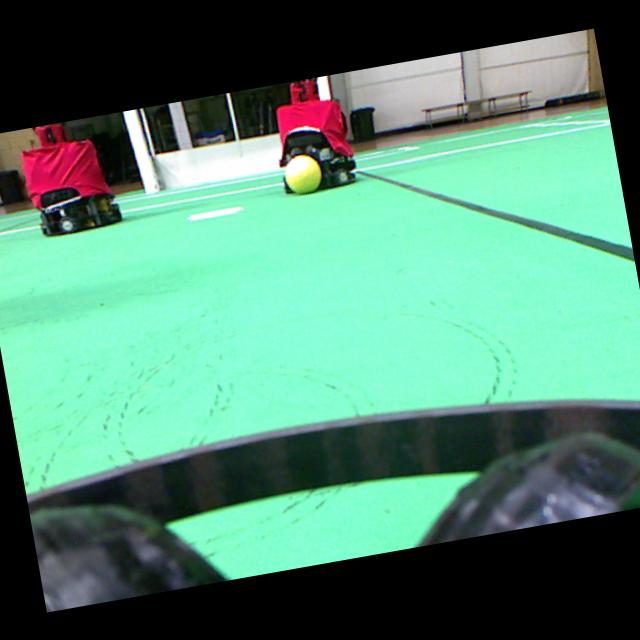ball: (284, 154, 321, 193)
goal: (123, 109, 158, 193)
